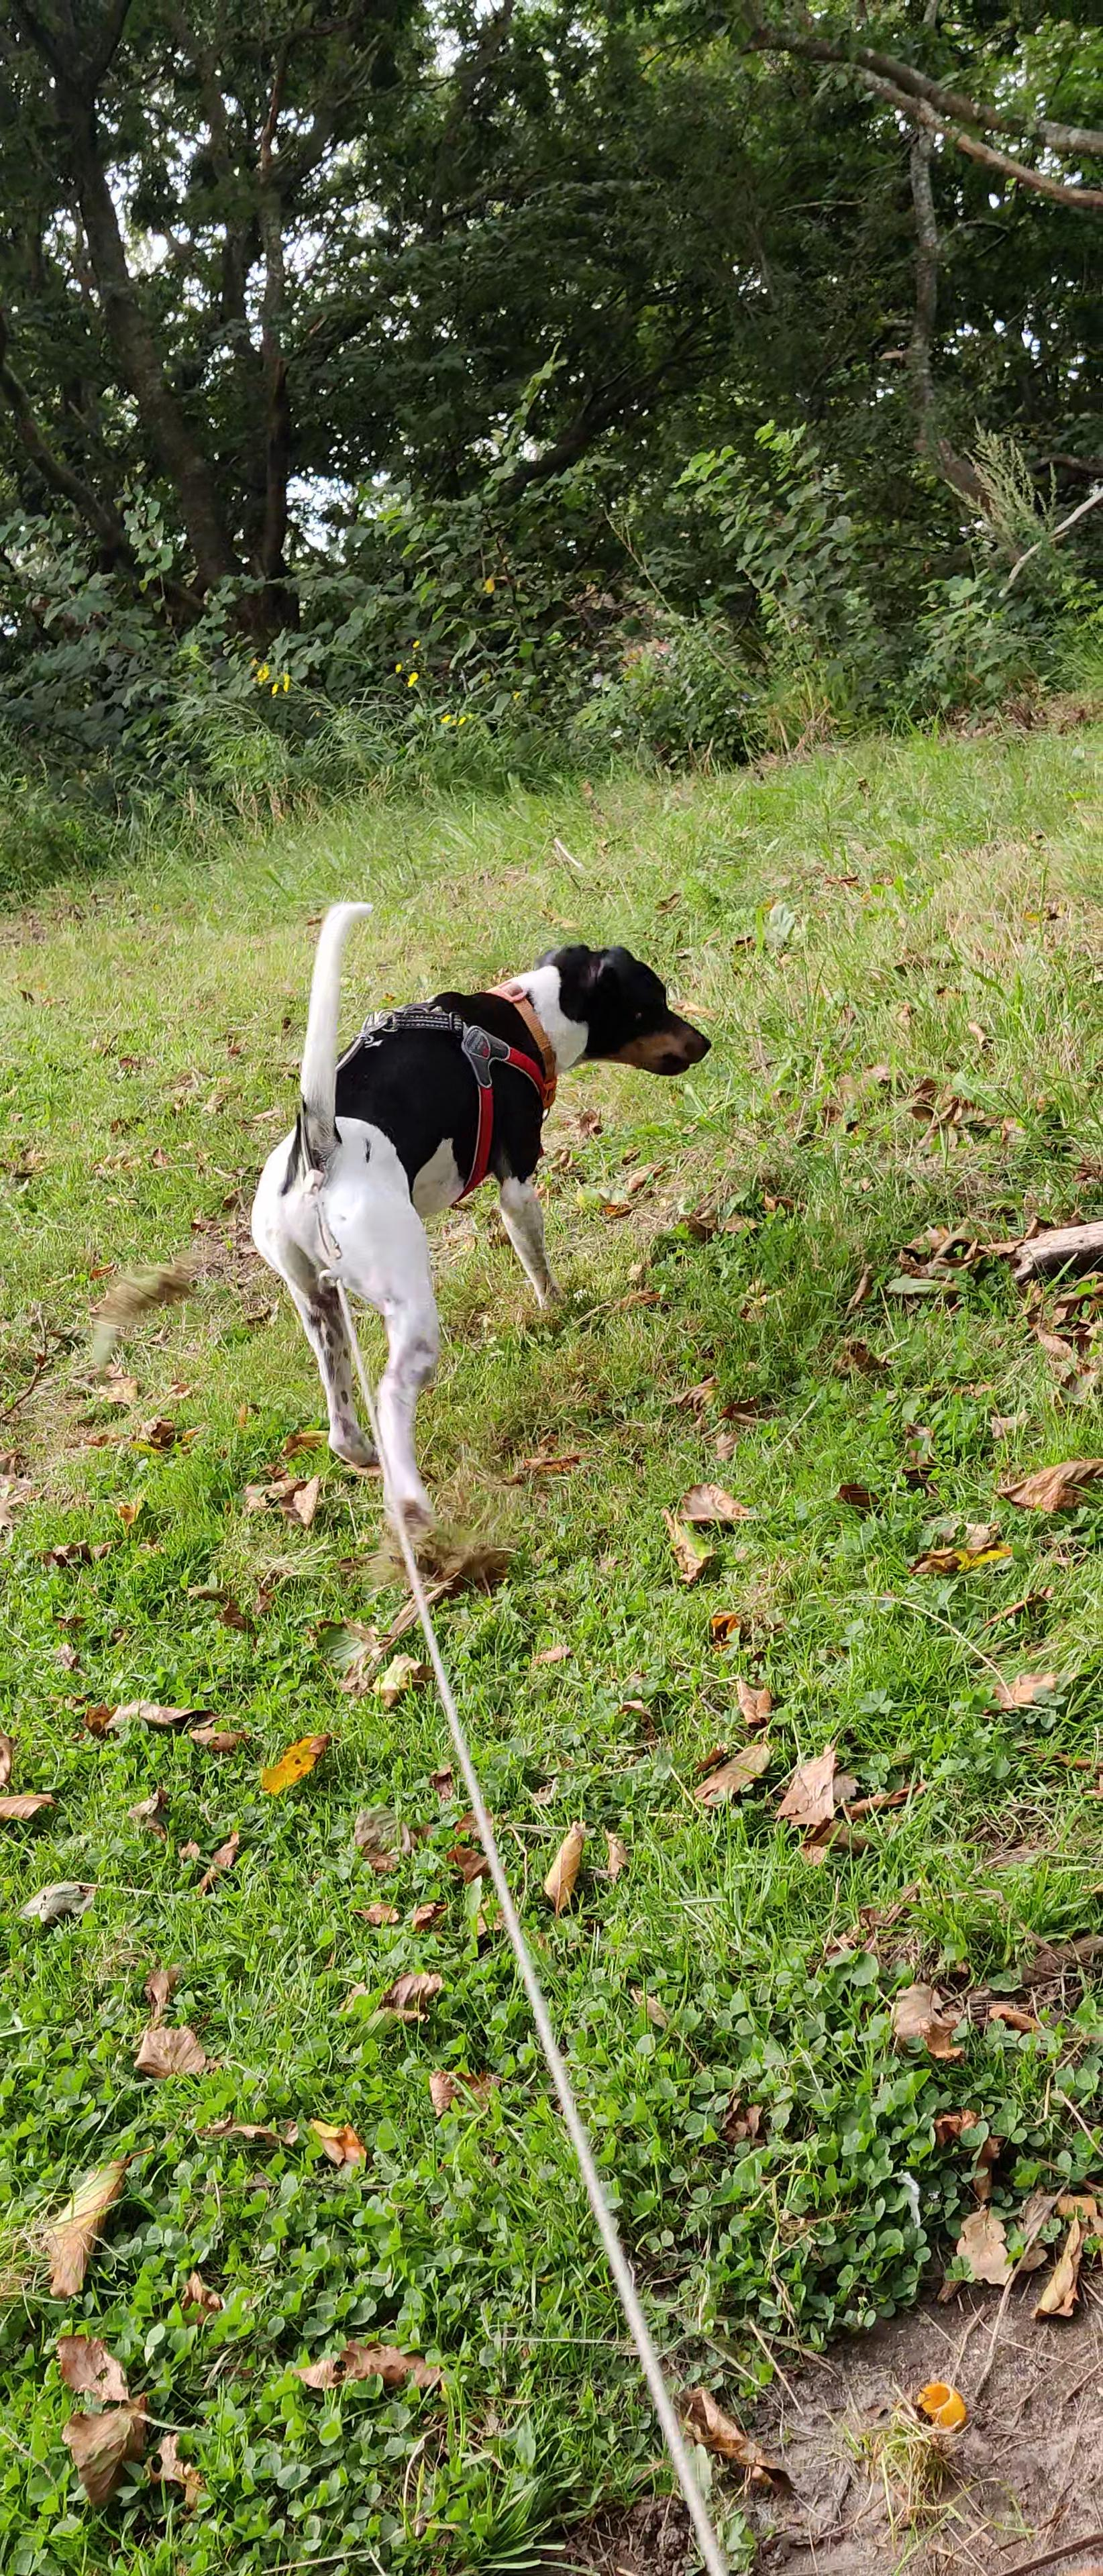Dog: (242, 892, 715, 1554)
